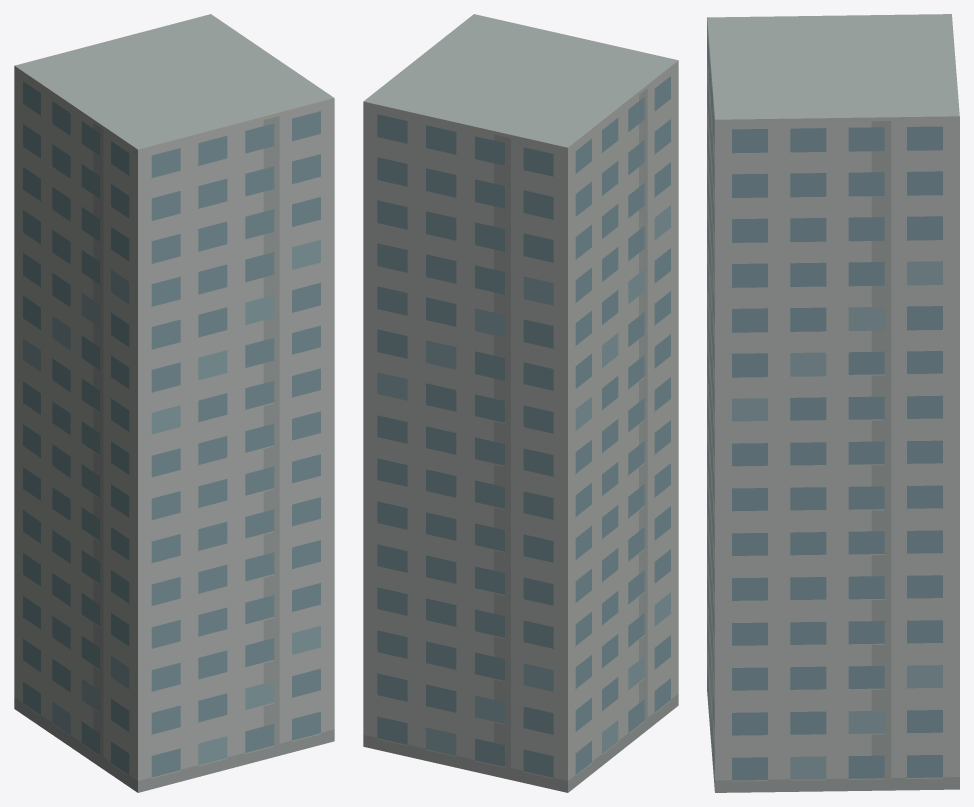
Rendered from residential-89c5a392-e7ba-4ac4-a4b9-1b5009178446.glb.
3 views of the same model, side by side, from view 1: azimuth 30°, elevation 25°; view 2: azimuth 150°, elevation 25°; view 3: azimuth 270°, elevation 25° (orthographic). The views are drawn at different scales.
Visible parts, largest first — view 1: residential-89c5a392-e7ba-4ac4-a4b9-1b5009178446.tmp; view 2: residential-89c5a392-e7ba-4ac4-a4b9-1b5009178446.tmp; view 3: residential-89c5a392-e7ba-4ac4-a4b9-1b5009178446.tmp.
Part boxes in pixels (left/top/right/bottom): residential-89c5a392-e7ba-4ac4-a4b9-1b5009178446.tmp: left=14, top=14, right=334, bottom=792; residential-89c5a392-e7ba-4ac4-a4b9-1b5009178446.tmp: left=363, top=14, right=678, bottom=792; residential-89c5a392-e7ba-4ac4-a4b9-1b5009178446.tmp: left=707, top=14, right=959, bottom=792.
Size of the model in its own units: 15.16 by 45 by 15.32.
